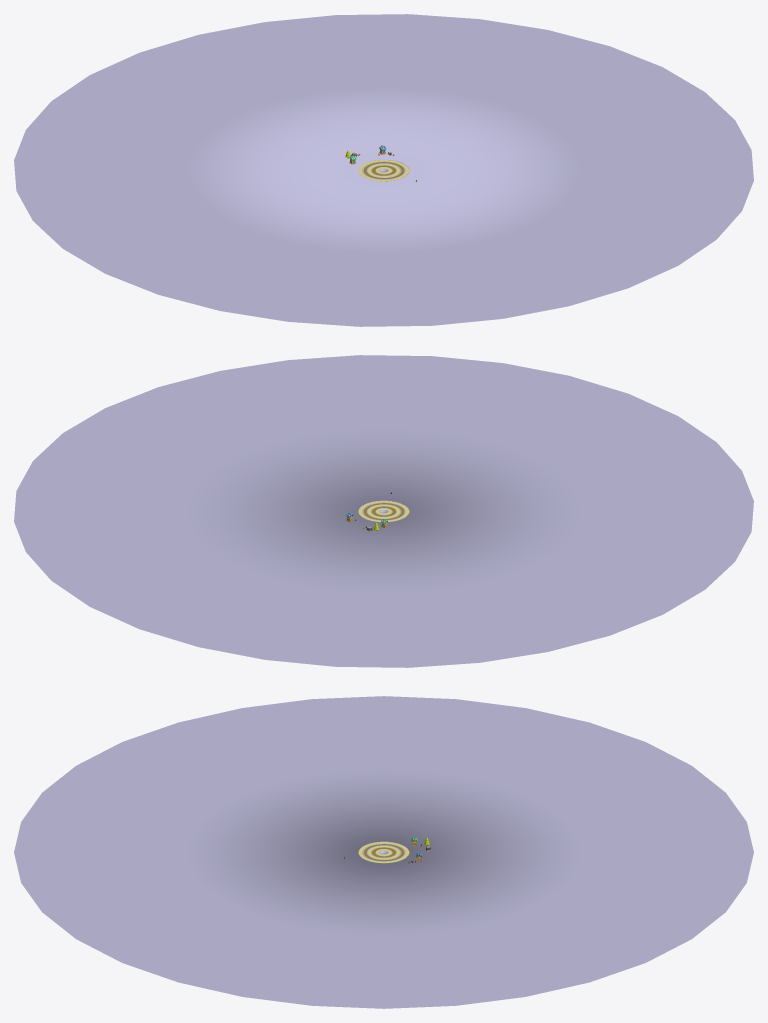
File: env01.fbx
3 views of the same model, one above another, from view 1: azimuth 30°, elevation 25°; view 2: azimuth 150°, elevation 25°; view 3: azimuth 270°, elevation 25° (orthographic).
Visible parts, largest first — view 1: Ground; view 2: Ground; view 3: Ground.
Part boxes in pixels (x1,y1,x2,y2): Ground: (14, 14, 753, 326); Ground: (14, 355, 753, 667); Ground: (14, 696, 753, 1008).
Size of the model in its own units: 578 by 13.13 by 578.
